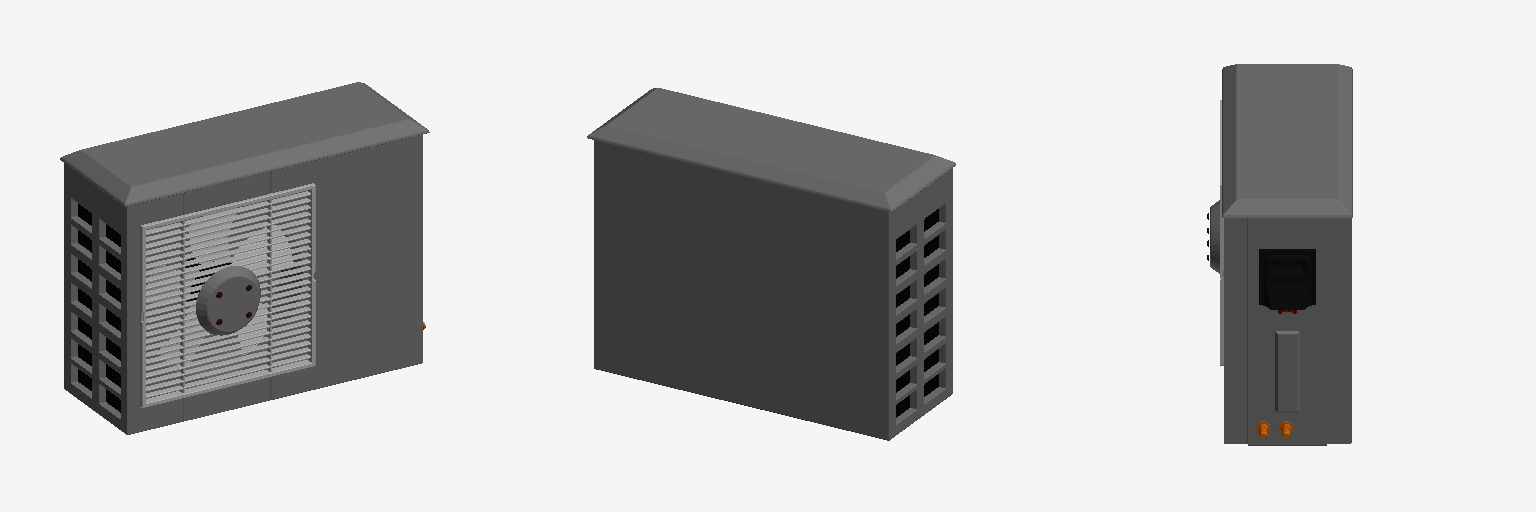
File: air_conditioner4.obj
3 renders of one model, left to right at view 1: azimuth 30°, elevation 25°; view 2: azimuth 150°, elevation 25°; view 3: azimuth 270°, elevation 25°, orthographic.
Visible parts, largest first — view 1: hull_Cube.045, wire_Cube.058, top_Cube.062, cover_Cylinder.016, radiator_Cube.056, blades_Plane.001; view 2: hull_Cube.045, top_Cube.062, radiator_Cube.056; view 3: hull_Cube.045, top_Cube.062, dataS_cover_Cube.052, wire_Cube.058, cover_Cylinder.016.
Boxes of the visible parts, x1=… form: hull_Cube.045: x1=64, y1=135, x2=422, y2=434; wire_Cube.058: x1=140, y1=183, x2=315, y2=407; top_Cube.062: x1=60, y1=82, x2=429, y2=206; cover_Cylinder.016: x1=196, y1=266, x2=260, y2=335; radiator_Cube.056: x1=78, y1=204, x2=120, y2=412; blades_Plane.001: x1=146, y1=208, x2=292, y2=364; hull_Cube.045: x1=594, y1=140, x2=952, y2=440; top_Cube.062: x1=587, y1=88, x2=955, y2=212; radiator_Cube.056: x1=896, y1=209, x2=938, y2=417; hull_Cube.045: x1=1224, y1=218, x2=1351, y2=445; top_Cube.062: x1=1222, y1=64, x2=1352, y2=217; dataS_cover_Cube.052: x1=1259, y1=249, x2=1315, y2=309; wire_Cube.058: x1=1220, y1=100, x2=1223, y2=365; cover_Cylinder.016: x1=1210, y1=200, x2=1219, y2=273.
Size of the model in its own units: 1.21 by 0.8735 by 0.4767.